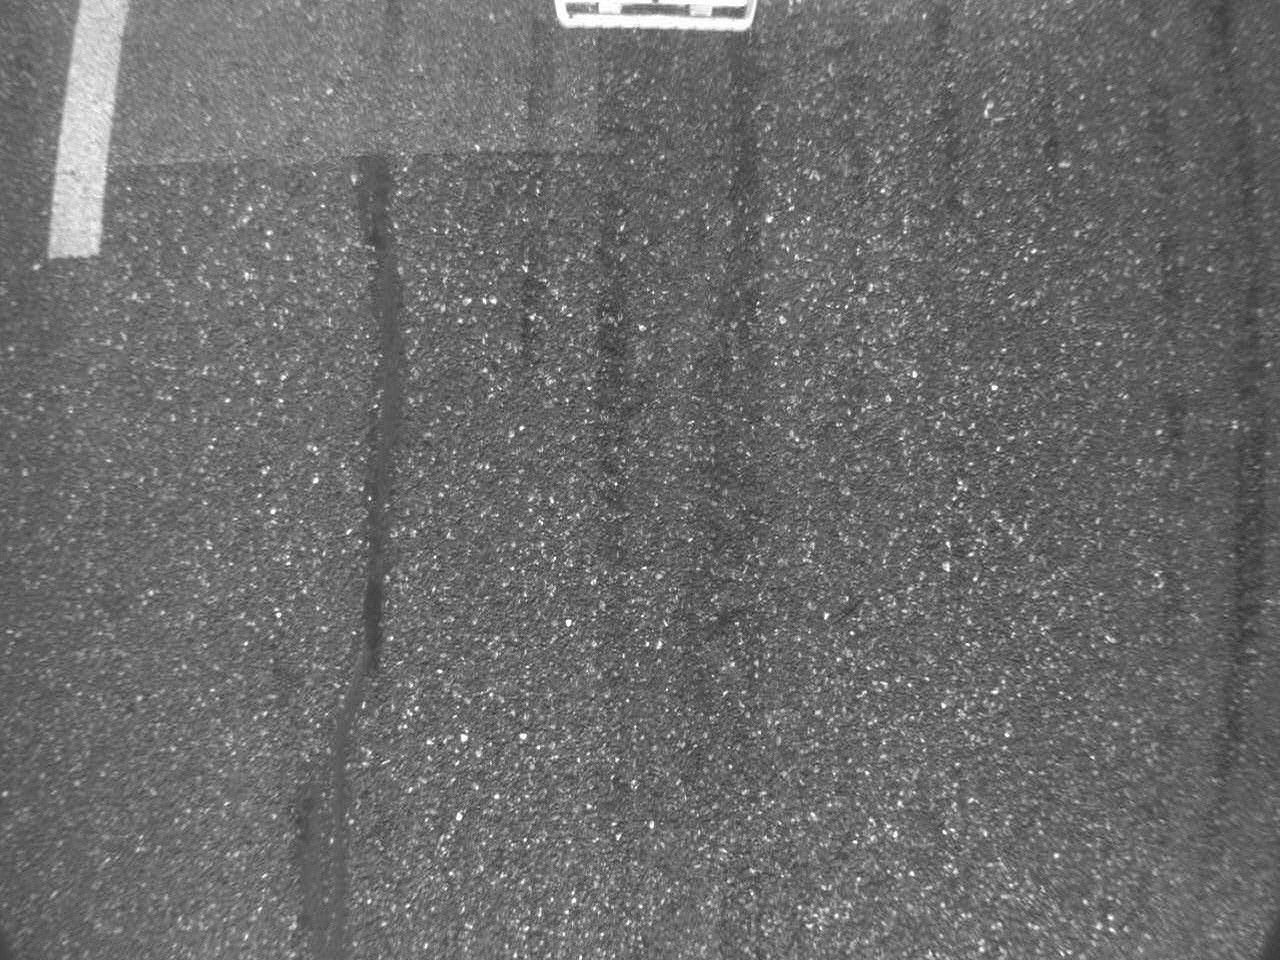sealed: (292, 143, 413, 960)
